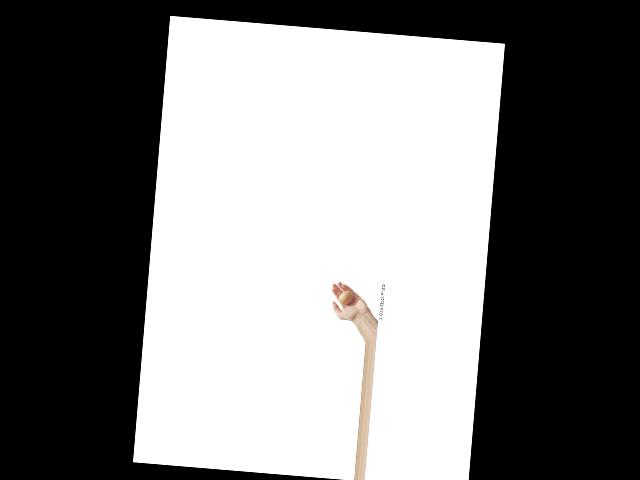egg: (339, 289, 353, 304)
